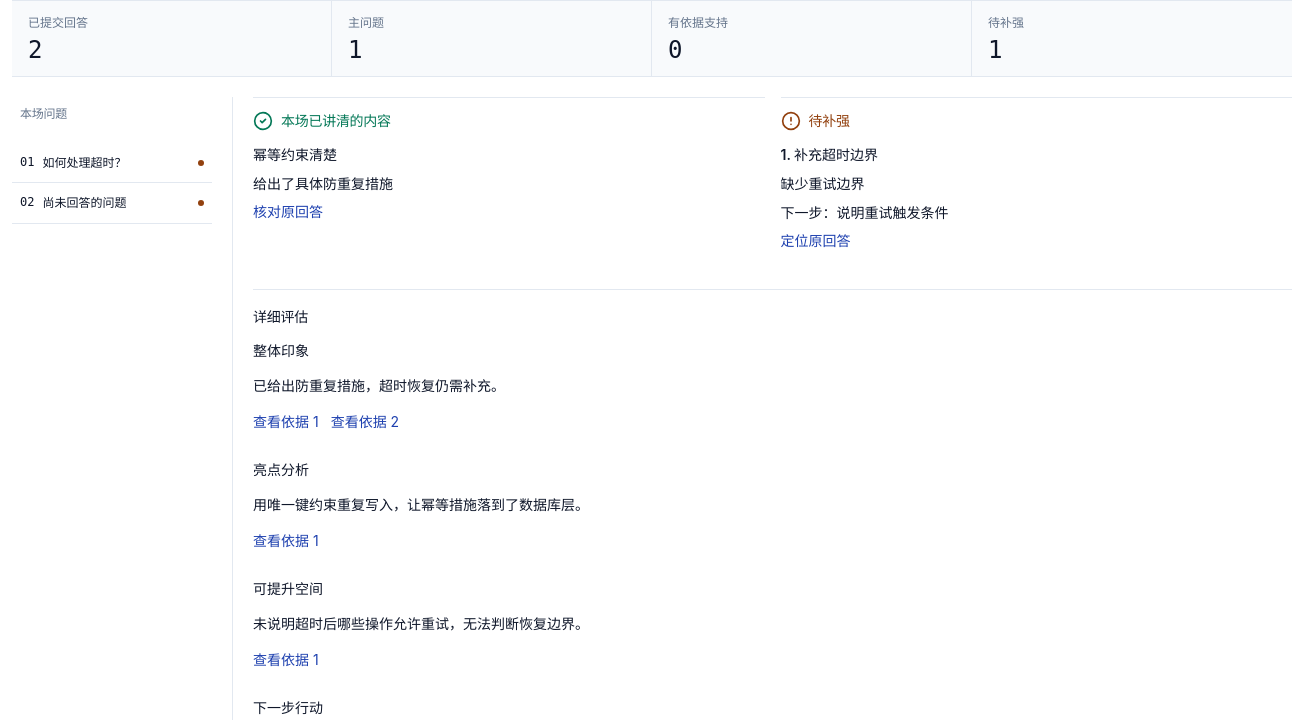
it: 详细评估展示四部分正文与行动，并能定位关联原答
The width and height of the screenshot is (1292, 720).
Check: the headings read "整体印象", "亮点分析", "可提升空间", "下一步行动", in this order, box [253, 342, 309, 359]; [253, 461, 309, 478]; [253, 580, 323, 597]; [253, 699, 323, 716]
Check: the element that starts with "整体印象" shows "数据库层", box [253, 496, 589, 513]
Step 1. Click the button "查看依据 1" below "已给出防重复措施，超时恢复仍需补充。" → (286, 422), box [253, 406, 319, 438]
(page scrolled)
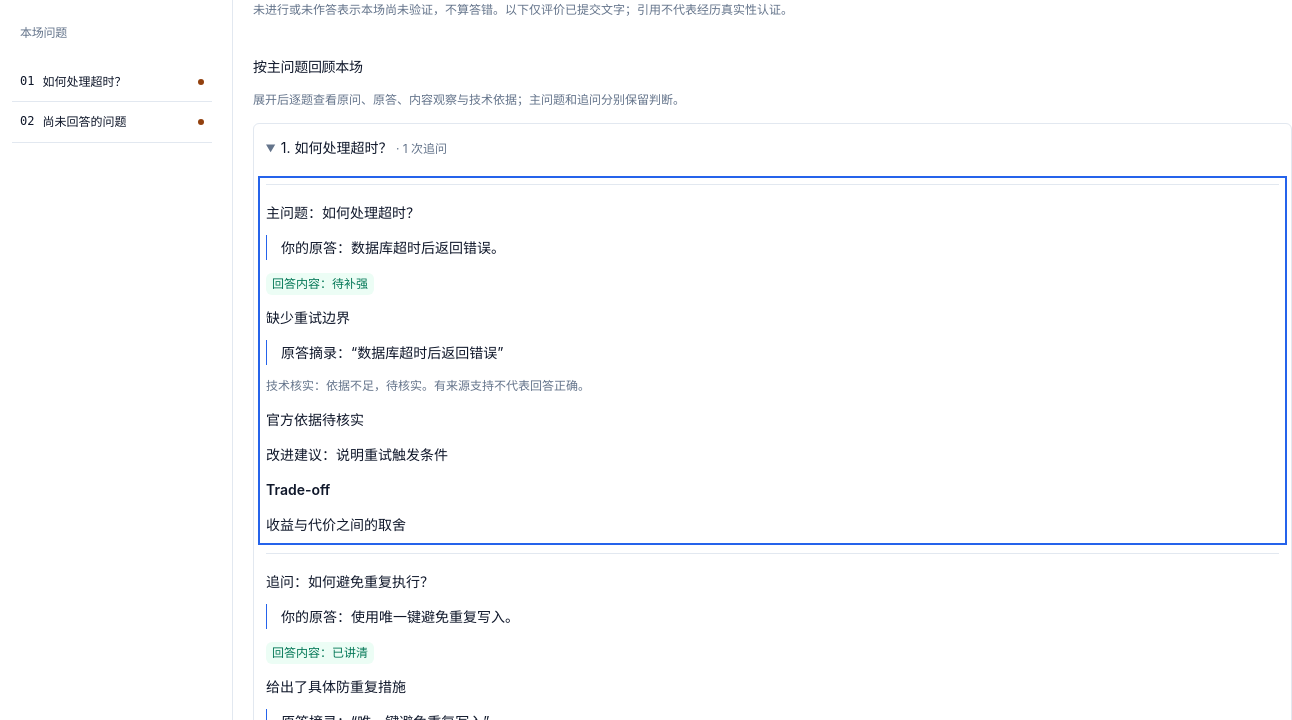
Check: the element that starts with "主问题：如何处理超时？" shows "数据库超时后返回错误", box [351, 239, 505, 256]
